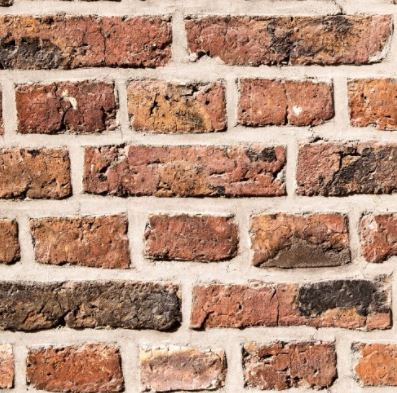brick: (84, 143, 290, 197), (187, 12, 392, 64), (1, 278, 180, 334), (190, 281, 393, 328), (1, 13, 173, 65), (246, 211, 353, 270), (15, 77, 117, 136), (298, 141, 397, 198), (127, 76, 227, 132), (236, 76, 336, 129), (140, 211, 240, 263), (31, 215, 132, 266), (238, 339, 337, 391), (24, 345, 126, 393), (139, 343, 224, 391), (1, 143, 73, 199), (344, 73, 397, 130), (349, 341, 397, 386), (359, 212, 397, 260)
